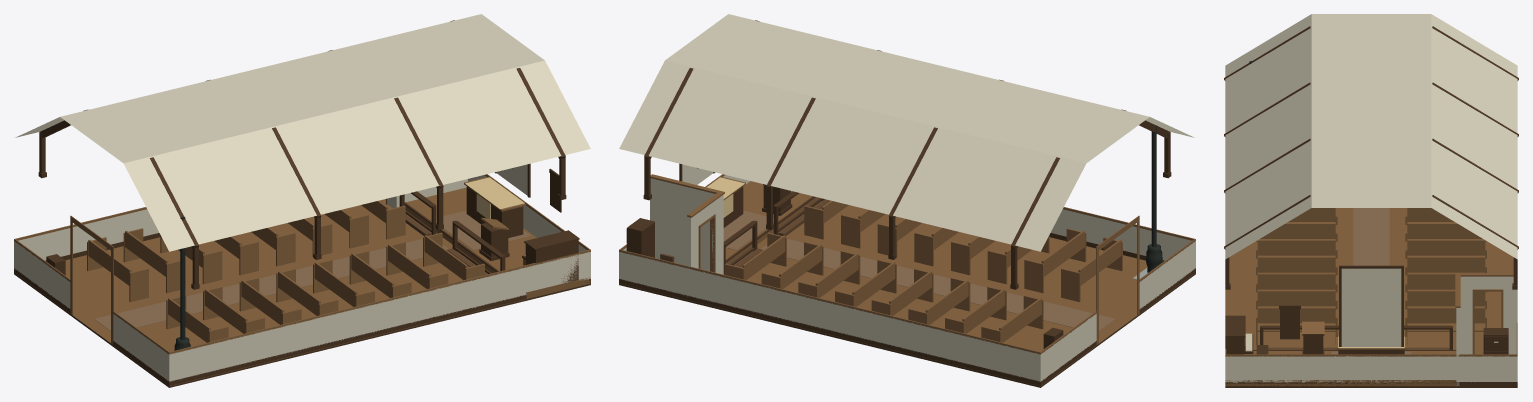
Rendered from SM_Town_Church_Interior_LOD2.fbx.
3 views of the same model, side by side, from view 1: azimuth 30°, elevation 25°; view 2: azimuth 150°, elevation 25°; view 3: azimuth 270°, elevation 25° (orthographic). The views are drawn at different scales.
Visible parts, largest first — view 1: SM_Town_Church_Interior_LOD2; view 2: SM_Town_Church_Interior_LOD2; view 3: SM_Town_Church_Interior_LOD2.
Part boxes in pixels (x1,y1,x2,y2): SM_Town_Church_Interior_LOD2: (14, 14, 590, 387); SM_Town_Church_Interior_LOD2: (619, 14, 1195, 387); SM_Town_Church_Interior_LOD2: (1224, 14, 1518, 387).
Size of the model in its own units: 13.8 by 8.87 by 5.98.
